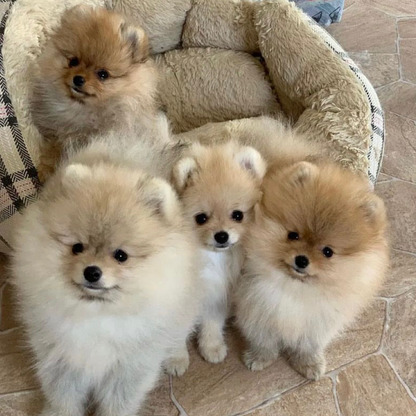Pomeranian: (26, 154, 179, 397), (251, 163, 388, 391), (173, 147, 264, 362), (28, 11, 162, 143)
